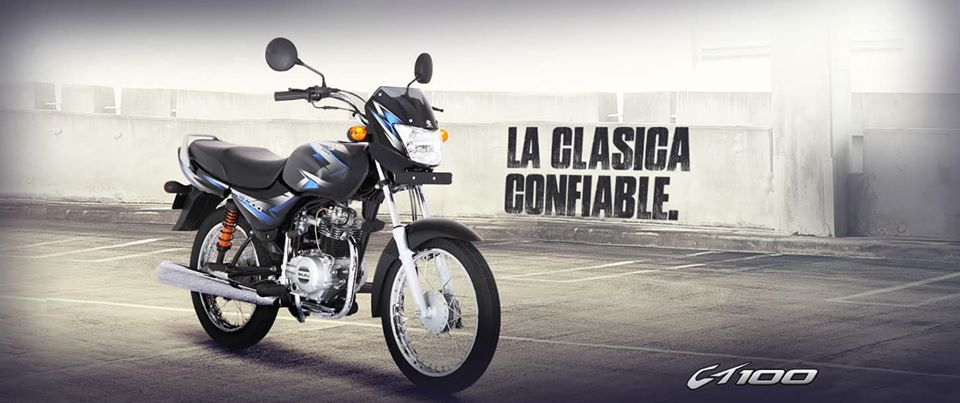moto: (155, 34, 502, 392)
